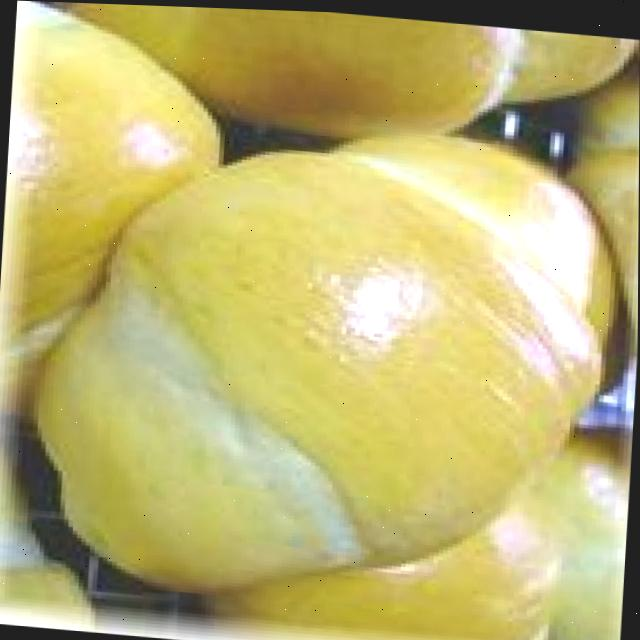面包点心: (27, 97, 639, 640)
